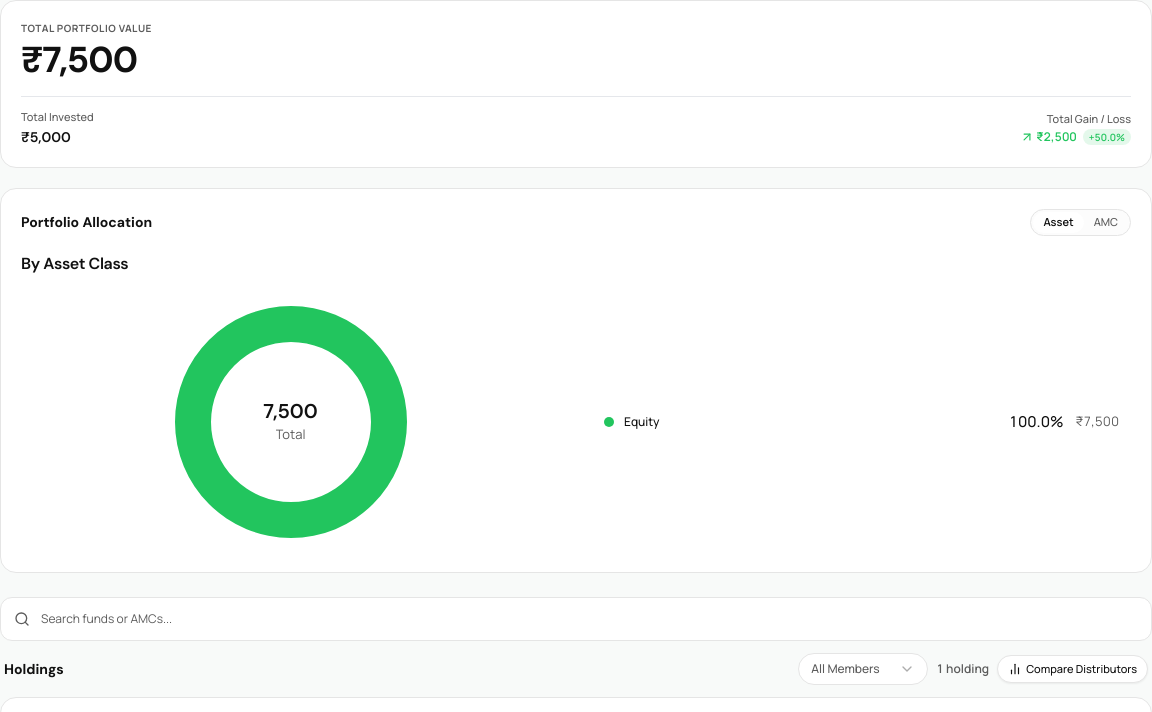
Test: MobileDashboardView › opens the portfolio-wide distributor comparison from the embedded Holdings header
Check: the text "Holdings" is shown, box 4,658 -> 64,678
Click the button "Compare Distributors". click: (1073, 668)
box: 997,654 -> 1148,682
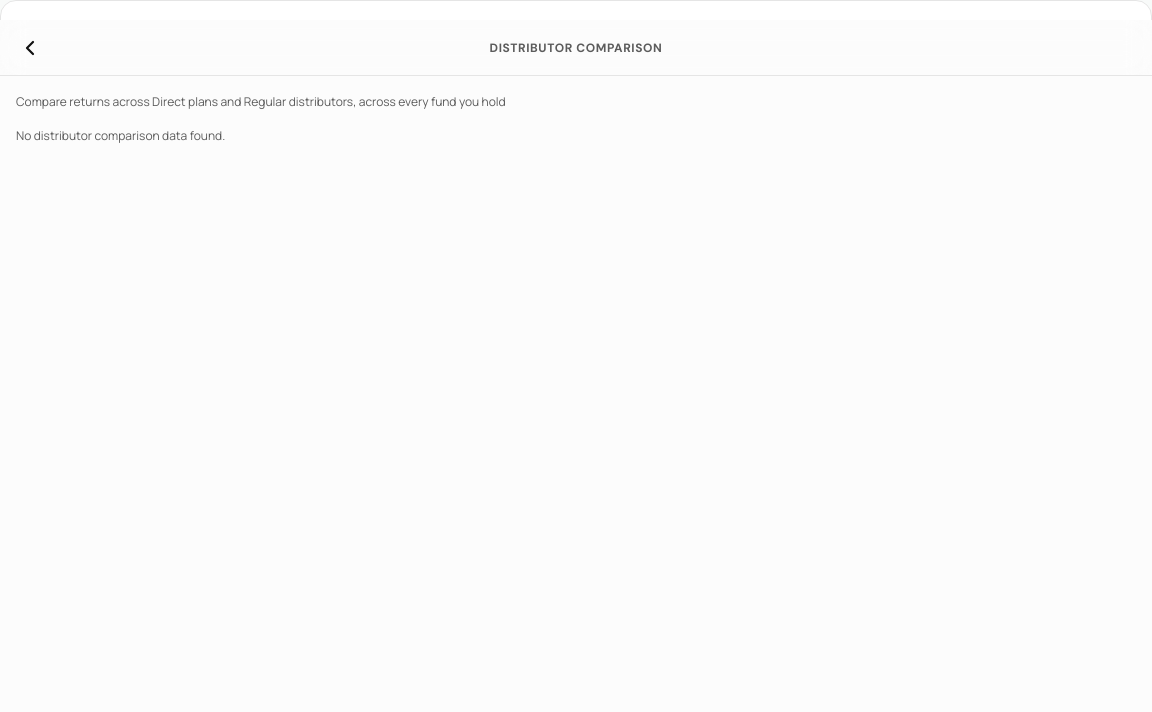
Check: the heading "DISTRIBUTOR COMPARISON" is shown, box 490,40 -> 662,56
